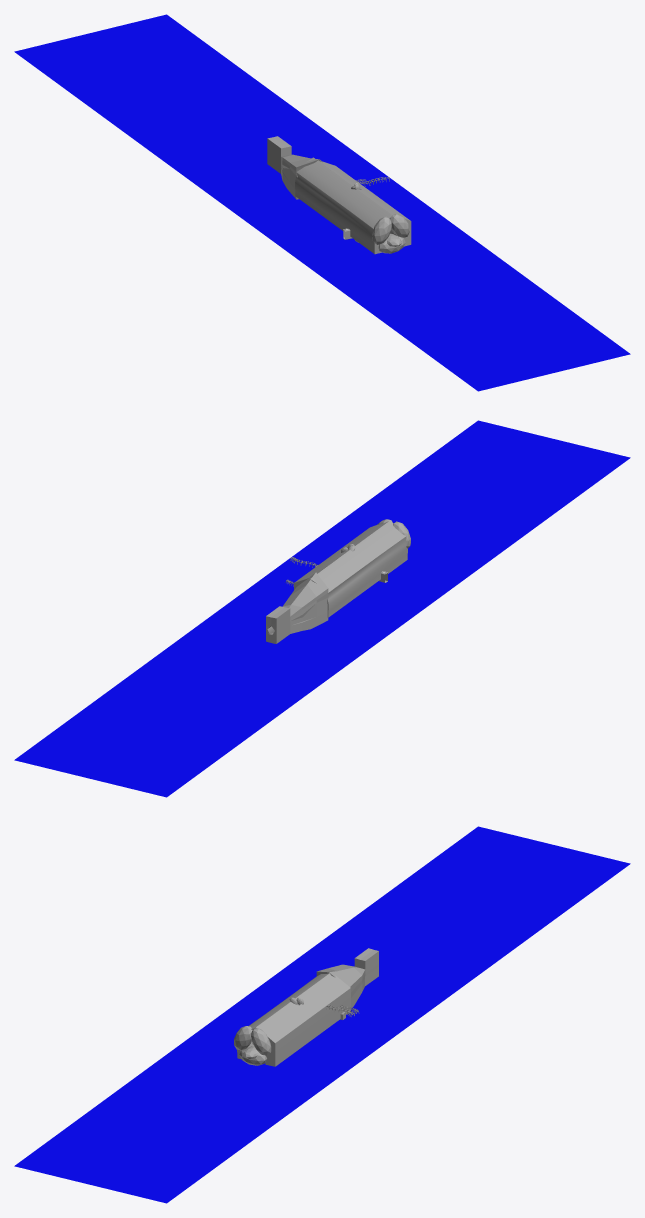
The picture shows the model from 3 angles, top to bottom: view 1: azimuth 30°, elevation 25°; view 2: azimuth 150°, elevation 25°; view 3: azimuth 330°, elevation 25°; orthographic projection.
Visible parts, largest first — view 1: pPlane1, polySurface3, pCube37, polySurface2; view 2: pPlane1, polySurface3, pCube37, polySurface2; view 3: pPlane1, polySurface2, pCube37, polySurface3.
Part boxes in pixels (x1,y1,x2,y2): pPlane1: [14, 14, 630, 391]; polySurface3: [295, 157, 392, 254]; pCube37: [267, 136, 322, 199]; polySurface2: [318, 160, 411, 246]; pPlane1: [14, 420, 630, 797]; polySurface3: [310, 521, 407, 617]; pCube37: [266, 572, 328, 643]; polySurface2: [294, 521, 388, 589]; pPlane1: [14, 826, 630, 1203]; polySurface2: [256, 973, 350, 1066]; pCube37: [316, 948, 378, 1008]; polySurface3: [237, 970, 333, 1059].
Bounding box in the file's own units: 145 × 42.19 × 761.
